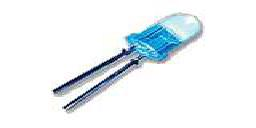LED: (52, 12, 206, 115)
